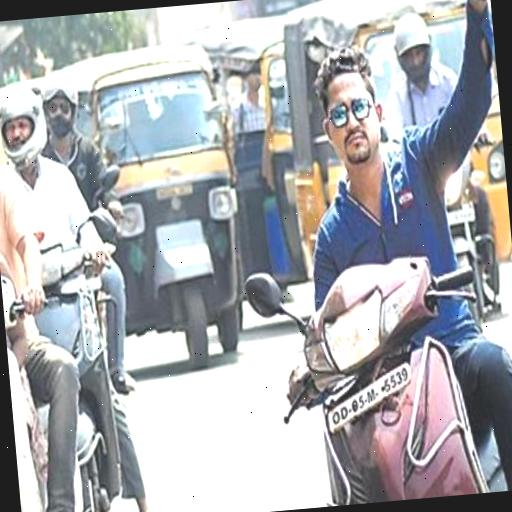helmet: (0, 66, 134, 512), (385, 0, 512, 295)
no helmet: (228, 11, 442, 511)
